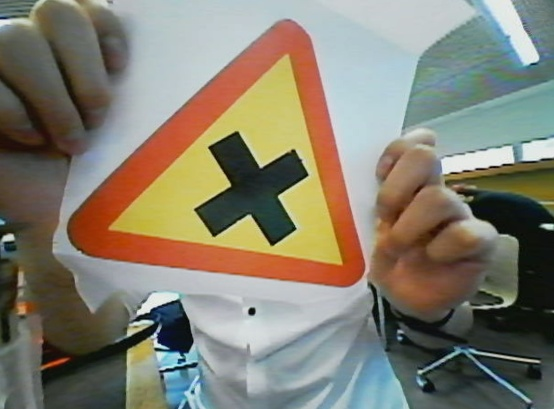junction: (51, 7, 372, 305)
